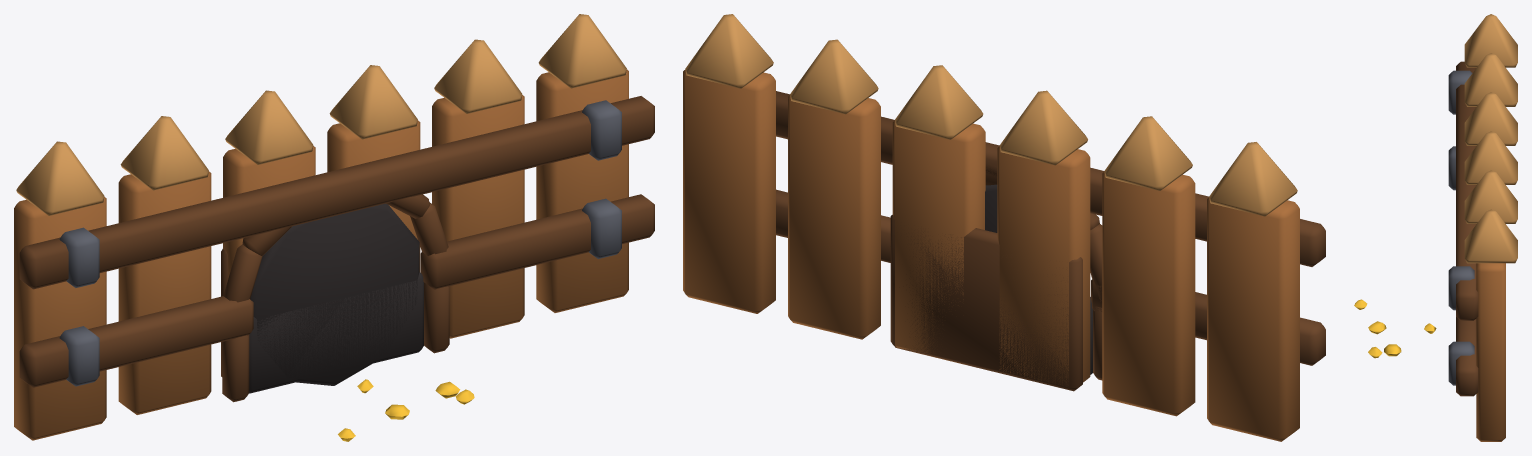
The model's file is B_MedFenceHole.fbx.
3 views of the same model, side by side, from view 1: azimuth 30°, elevation 25°; view 2: azimuth 150°, elevation 25°; view 3: azimuth 270°, elevation 25° (orthographic). The views are drawn at different scales.
Visible parts, largest first — view 1: M_FenceHole; view 2: M_FenceHole; view 3: M_FenceHole.
Part boxes in pixels (x1,y1,x2,y2): M_FenceHole: (14,14,654,441); M_FenceHole: (683,14,1325,441); M_FenceHole: (1354,14,1517,441).
Bounding box in the file's own units: 3 × 1.36 × 0.8849.
Materials: 1 (1 with a texture image).
